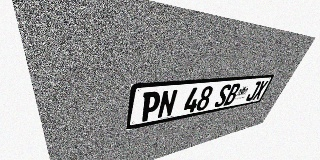4: (182, 87, 203, 114)
8: (195, 86, 215, 111)
B: (223, 83, 242, 106)
J: (245, 81, 262, 102)
N: (157, 89, 178, 119)
P: (139, 91, 162, 122)
S: (213, 84, 232, 108)
X: (252, 80, 269, 100)
